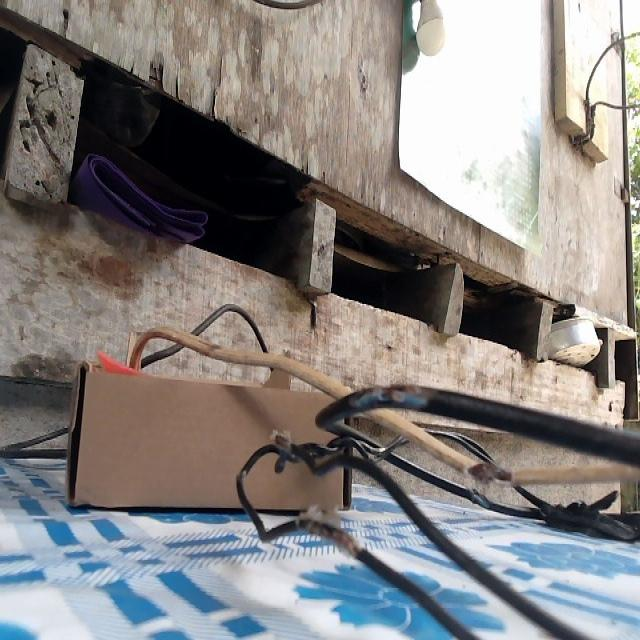-: (296, 509, 361, 556), (350, 384, 430, 408), (465, 459, 513, 485), (269, 428, 292, 452)
